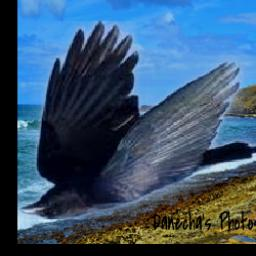Crow: (17, 21, 256, 219)
